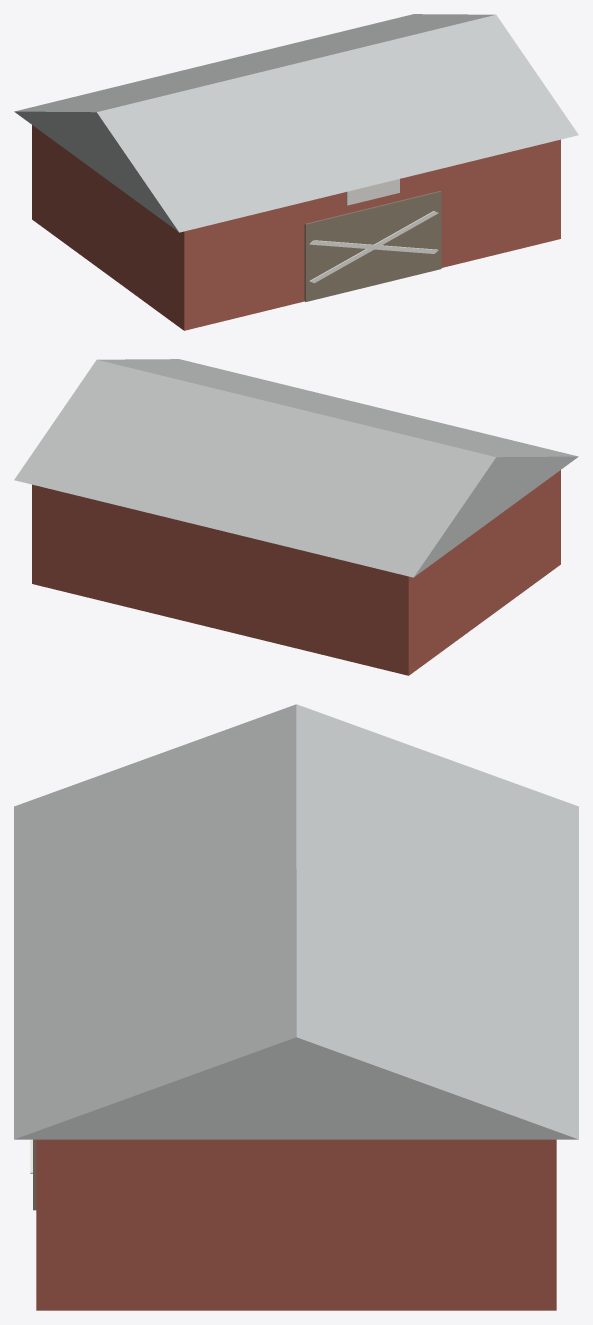
File: Barn.glb
3 views of the same model, one above another, from view 1: azimuth 30°, elevation 25°; view 2: azimuth 150°, elevation 25°; view 3: azimuth 270°, elevation 25° (orthographic). The views are drawn at different scales.
Parts seen in each view (by area): view 1: Barn roof, Barn, Barn door, Hay door, Door brace.001, Door brace; view 2: Barn roof, Barn; view 3: Barn roof, Barn.
Part boxes in pixels (x1,y1,x2,y2): Barn roof: [14, 14, 578, 232]; Barn: [32, 125, 560, 330]; Barn door: [304, 191, 441, 301]; Hay door: [346, 179, 399, 205]; Door brace.001: [310, 211, 438, 283]; Door brace: [309, 240, 438, 253]; Barn roof: [14, 359, 578, 577]; Barn: [32, 470, 560, 675]; Barn roof: [14, 704, 578, 1139]; Barn: [36, 1139, 556, 1310].
Size of the model in its own units: 10.6 by 4.2 by 7.6.
